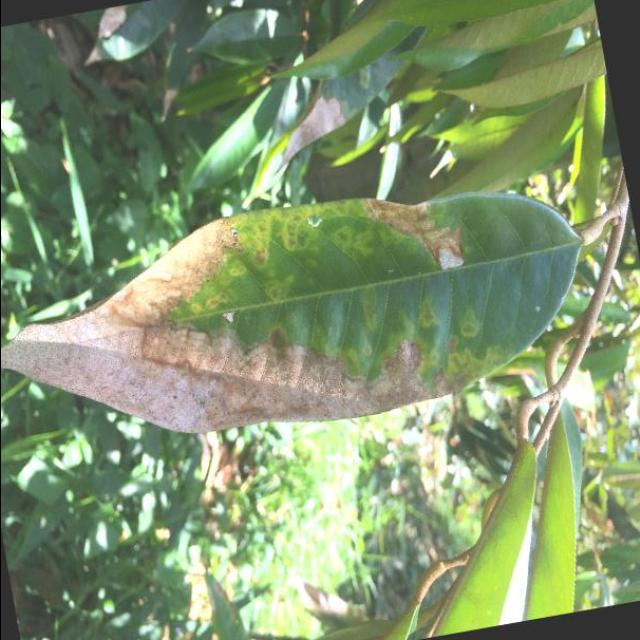Leaf Blight: (0, 144, 616, 486)
